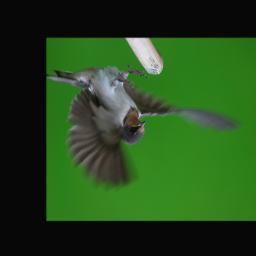Swallow: (50, 64, 239, 191)
